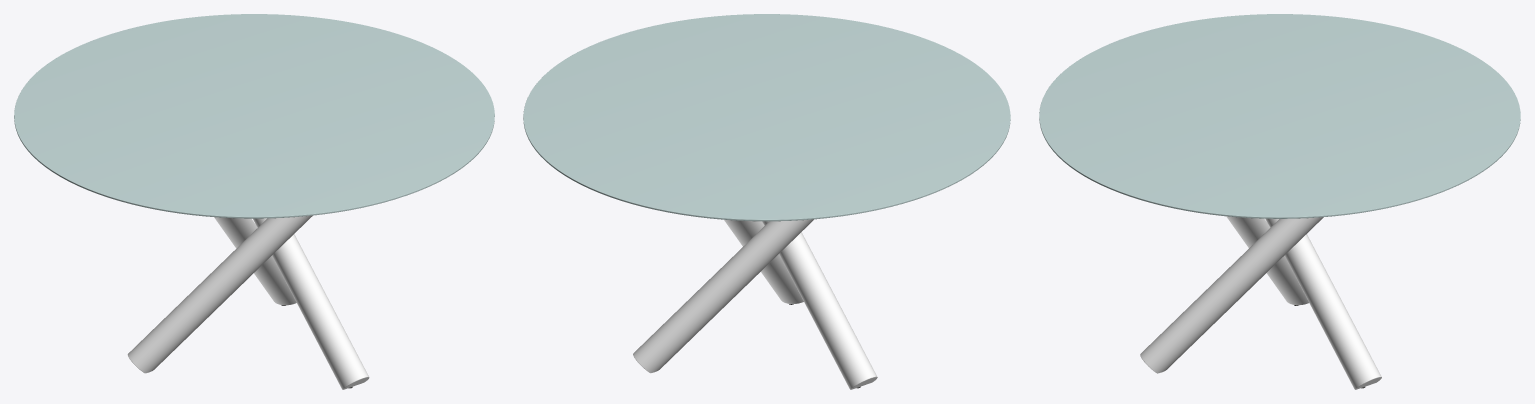
The picture shows the model from 3 angles, left to right: view 1: azimuth 30°, elevation 25°; view 2: azimuth 150°, elevation 25°; view 3: azimuth 270°, elevation 25°; orthographic projection.
Visible parts, largest first — view 1: Circle012, Circle005_Chrome Polished_0, Circle003_Chrome Polished_0, Circle004_Chrome Polished_0; view 2: Circle012, Circle004_Chrome Polished_0, Circle005_Chrome Polished_0, Circle003_Chrome Polished_0; view 3: Circle012, Circle003_Chrome Polished_0, Circle004_Chrome Polished_0, Circle005_Chrome Polished_0.
Boxes of the visible parts, x1,y1,x2,y2 form: Circle012: [14, 14, 494, 218]; Circle005_Chrome Polished_0: [127, 215, 312, 373]; Circle003_Chrome Polished_0: [253, 218, 369, 389]; Circle004_Chrome Polished_0: [214, 217, 296, 305]; Circle012: [523, 14, 1010, 221]; Circle004_Chrome Polished_0: [633, 219, 813, 373]; Circle005_Chrome Polished_0: [762, 221, 877, 389]; Circle003_Chrome Polished_0: [724, 219, 803, 303]; Circle012: [1039, 14, 1520, 218]; Circle003_Chrome Polished_0: [1140, 217, 1323, 373]; Circle004_Chrome Polished_0: [1265, 218, 1381, 389]; Circle005_Chrome Polished_0: [1226, 216, 1308, 305].
Size of the model in its own units: 1379 by 749 by 1379.
